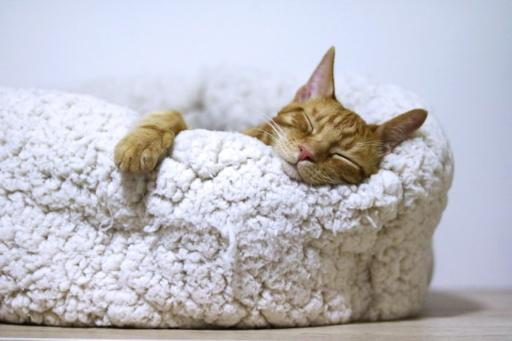cat_sleeping: (243, 47, 427, 185), (114, 110, 187, 173)
